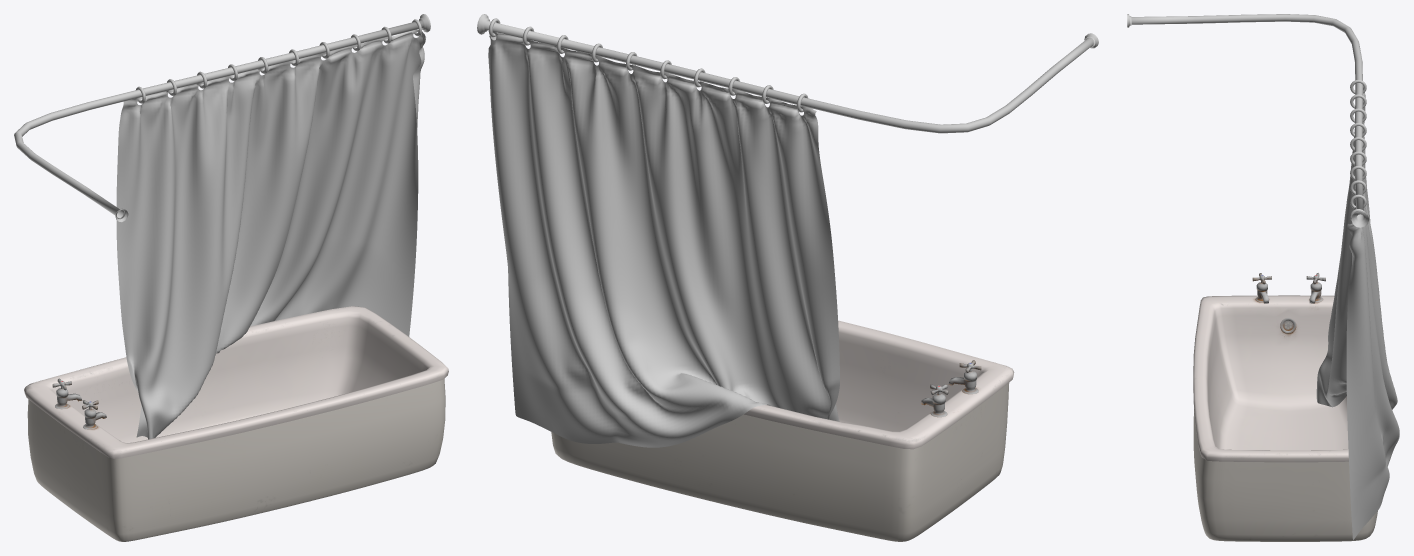
Rendered from Bath_and_Curtains.fbx.
3 views of the same model, side by side, from view 1: azimuth 30°, elevation 25°; view 2: azimuth 150°, elevation 25°; view 3: azimuth 270°, elevation 25° (orthographic). The views are drawn at different scales.
Parts seen in each view (by area): view 1: BathCurtain, BathSkirt, Bath, CurtainRailing; view 2: BathCurtain, BathSkirt, Bath, CurtainRailing; view 3: Bath, BathCurtain, BathSkirt, CurtainRailing.
Part boxes in pixels (bbox=[...]): BathCurtain: bbox=[116, 29, 425, 439]; BathSkirt: bbox=[27, 378, 445, 541]; Bath: bbox=[24, 306, 448, 458]; CurtainRailing: bbox=[14, 14, 430, 222]; BathCurtain: bbox=[488, 31, 839, 447]; BathSkirt: bbox=[551, 383, 1009, 541]; Bath: bbox=[744, 320, 1014, 449]; CurtainRailing: bbox=[477, 14, 1098, 133]; Bath: bbox=[1193, 273, 1348, 462]; BathCurtain: bbox=[1316, 86, 1399, 539]; BathSkirt: bbox=[1193, 322, 1377, 541]; CurtainRailing: bbox=[1127, 14, 1369, 227].
Size of the model in its own units: 192 by 164 by 108.
